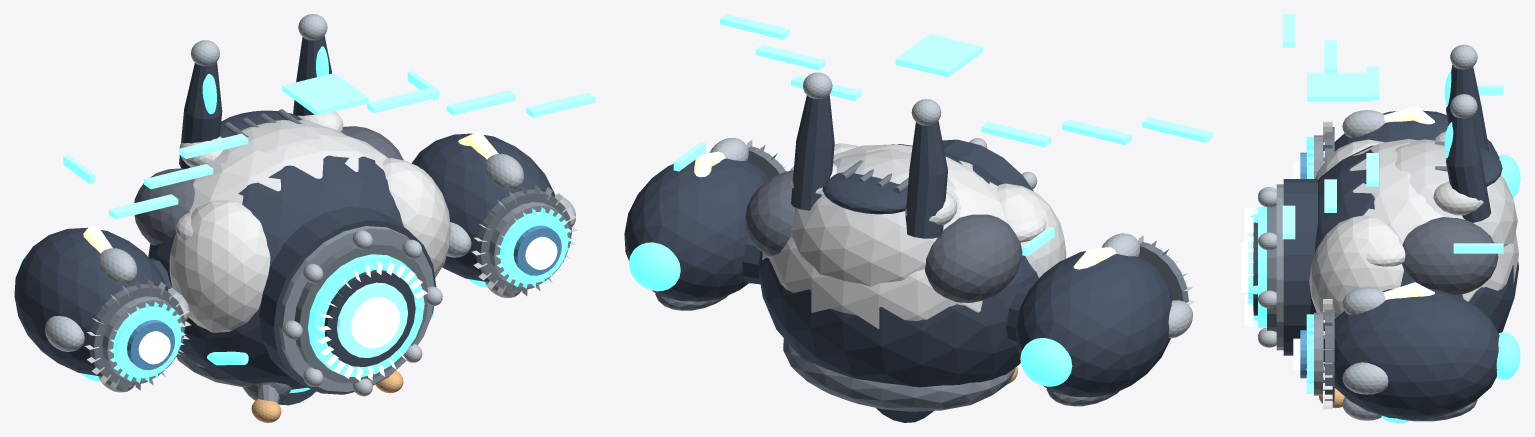
File: aux9.glb
The picture shows the model from 3 angles, left to right: view 1: azimuth 30°, elevation 25°; view 2: azimuth 150°, elevation 25°; view 3: azimuth 270°, elevation 25°; orthographic projection. The views are drawn at different scales.
Parts seen in each view (by area): view 1: AUX_hull_pressure_sphere, shoulder_ceramic_-1, pod_main_hull_-1, V59 trim baked, pod_main_hull_1, front_reactor_64, AUX_ceramic_superstructure, shoulder_ceramic_1, front_reactor_60, front_reactor_44, front_reactor_51, front_reactor_35 (+30 smaller); view 2: AUX_hull_pressure_sphere, pod_main_hull_-1, pod_main_hull_1, AUX_raised_dorsal_armor, AUX_ceramic_superstructure, V59 trim baked, shoulder_black_shroud_-1, AUX_ventral_armor, comms_tower_-1, comms_tower_1, shoulder_black_shroud_1, shoulder_ceramic_-1 (+17 smaller); view 3: pod_main_hull_1, shoulder_ceramic_1, shoulder_black_shroud_1, V59 trim baked, AUX_ceramic_superstructure, front_reactor_64, AUX_hull_pressure_sphere, AUX_raised_dorsal_armor, comms_tower_1, pod_main_hull_-1, comms_tower_-1, front_reactor_60 (+32 smaller).
Part boxes in pixels (x1=…): AUX_hull_pressure_sphere: x1=148, y1=155, x2=403, y2=389; shoulder_ceramic_-1: x1=169, y1=200, x2=270, y2=332; pod_main_hull_-1: x1=14, y1=227, x2=168, y2=375; V59 trim baked: x1=63, y1=71, x2=595, y2=219; pod_main_hull_1: x1=412, y1=133, x2=554, y2=281; front_reactor_64: x1=259, y1=207, x2=436, y2=394; AUX_ceramic_superstructure: x1=189, y1=134, x2=388, y2=212; shoulder_ceramic_1: x1=382, y1=158, x2=450, y2=277; front_reactor_60: x1=278, y1=226, x2=434, y2=391; front_reactor_44: x1=308, y1=254, x2=424, y2=377; front_reactor_51: x1=294, y1=241, x2=427, y2=383; front_reactor_35: x1=324, y1=270, x2=415, y2=366; AUX_hull_pressure_sphere: x1=758, y1=144, x2=1039, y2=387; pod_main_hull_-1: x1=1016, y1=251, x2=1173, y2=397; pod_main_hull_1: x1=624, y1=158, x2=769, y2=301; AUX_raised_dorsal_armor: x1=790, y1=149, x2=961, y2=286; AUX_ceramic_superstructure: x1=762, y1=144, x2=1008, y2=329; V59 trim baked: x1=673, y1=14, x2=1212, y2=256; shoulder_black_shroud_-1: x1=925, y1=214, x2=1021, y2=302; AUX_ventral_armor: x1=783, y1=338, x2=1015, y2=411; comms_tower_-1: x1=905, y1=120, x2=947, y2=238; comms_tower_1: x1=791, y1=94, x2=834, y2=210; shoulder_black_shroud_1: x1=745, y1=170, x2=795, y2=256; shoulder_ceramic_-1: x1=997, y1=183, x2=1066, y2=277; pod_main_hull_1: x1=1323, y1=288, x2=1499, y2=419; shoulder_ceramic_1: x1=1309, y1=215, x2=1403, y2=318; shoulder_black_shroud_1: x1=1402, y1=217, x2=1498, y2=294; V59 trim baked: x1=1282, y1=14, x2=1503, y2=253; AUX_ceramic_superstructure: x1=1349, y1=139, x2=1518, y2=301; front_reactor_64: x1=1283, y1=179, x2=1317, y2=355; AUX_hull_pressure_sphere: x1=1310, y1=145, x2=1518, y2=342; AUX_raised_dorsal_armor: x1=1395, y1=139, x2=1517, y2=246; comms_tower_1: x1=1446, y1=114, x2=1491, y2=222; pod_main_hull_-1: x1=1324, y1=110, x2=1499, y2=161; comms_tower_-1: x1=1446, y1=64, x2=1489, y2=150; front_reactor_60: x1=1276, y1=184, x2=1283, y2=350.
Bounding box in the file's own units: 4.1 × 2.63 × 2.02.
